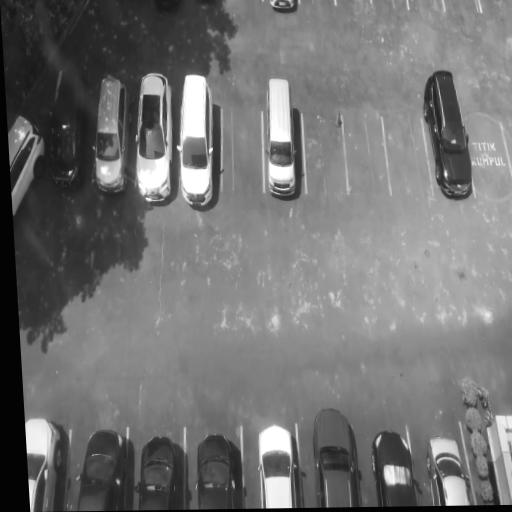Car: (420, 68, 480, 199), (43, 64, 90, 194), (133, 67, 172, 207), (176, 71, 214, 214), (309, 402, 360, 508), (89, 70, 130, 194), (264, 74, 302, 202), (8, 111, 50, 226), (74, 427, 129, 511), (25, 415, 69, 512), (255, 421, 302, 509), (370, 425, 418, 507), (134, 434, 185, 508), (194, 431, 240, 509), (424, 433, 473, 506), (267, 0, 303, 13)
Space Available: (382, 117, 434, 194), (341, 117, 389, 196), (220, 107, 263, 194), (303, 110, 347, 195), (465, 118, 512, 195), (444, 0, 482, 14), (408, 0, 446, 13), (338, 0, 372, 12), (373, 0, 409, 9), (299, 0, 336, 7)
